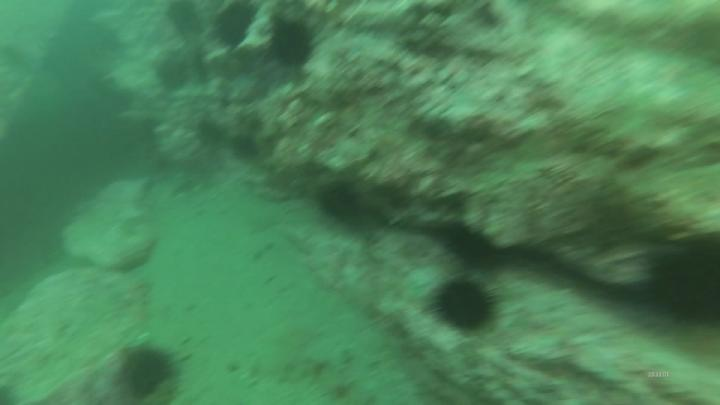echinus: (638, 226, 720, 342), (112, 331, 187, 400), (428, 273, 495, 340), (268, 13, 324, 76), (316, 175, 368, 231), (211, 4, 266, 55)
